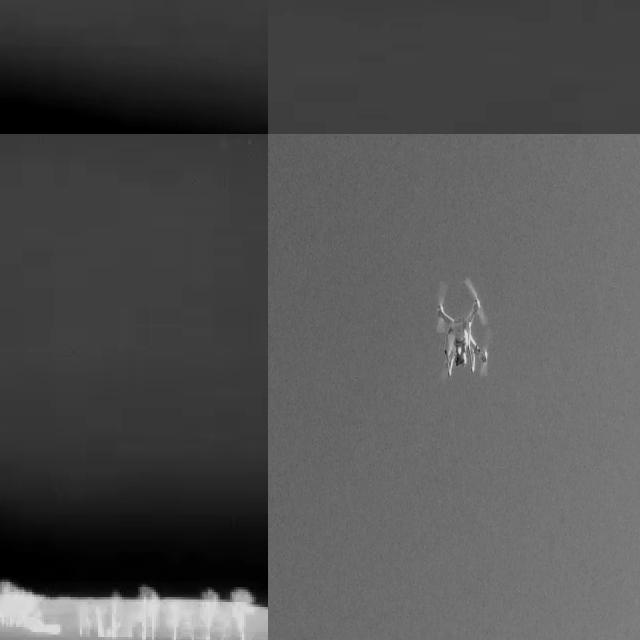drone: (430, 269, 496, 386)
